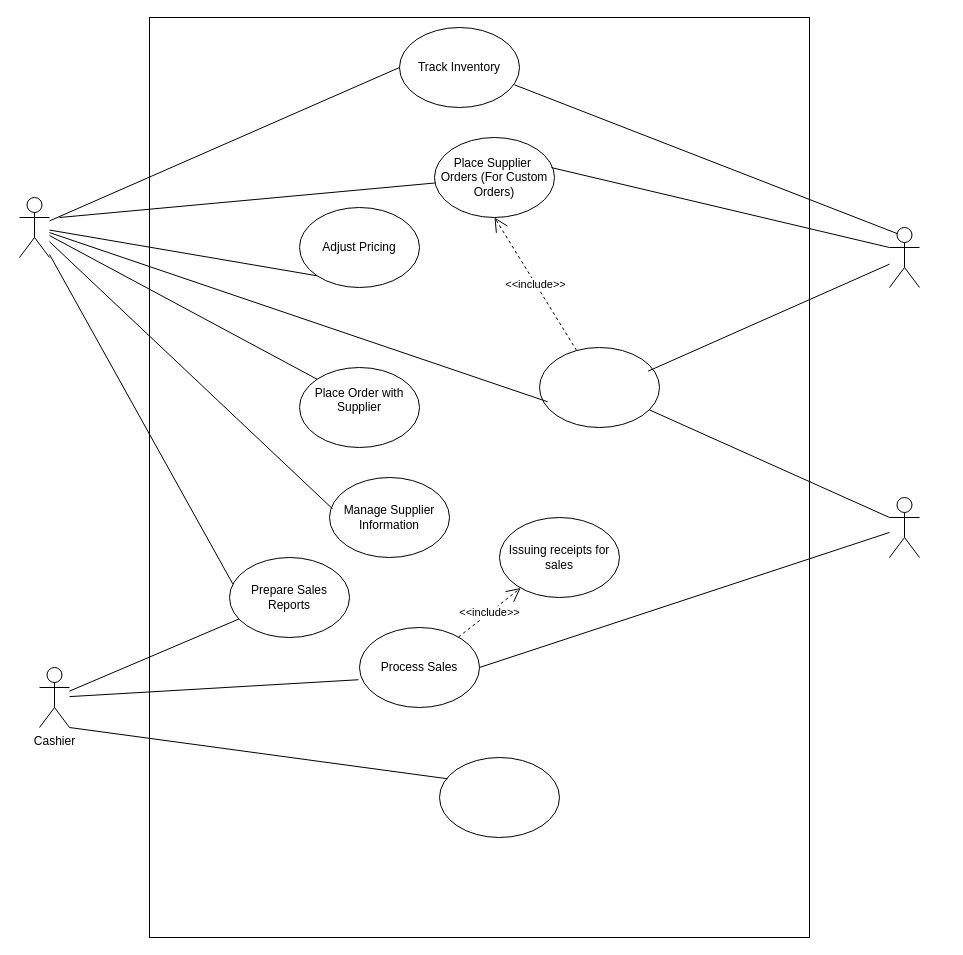
The diagram is 963 pixels wide and 955 high, and some of its shapes have lost their labels. The shapes that lost their labels are listed below. From the top down, each one's centre as x and y in pixels, then its label:
the point at 34,227: Owner
the point at 904,257: store manager
the point at 599,387: Manage Custom Orders
the point at 904,527: sales associate
the point at 499,797: Record Sales
